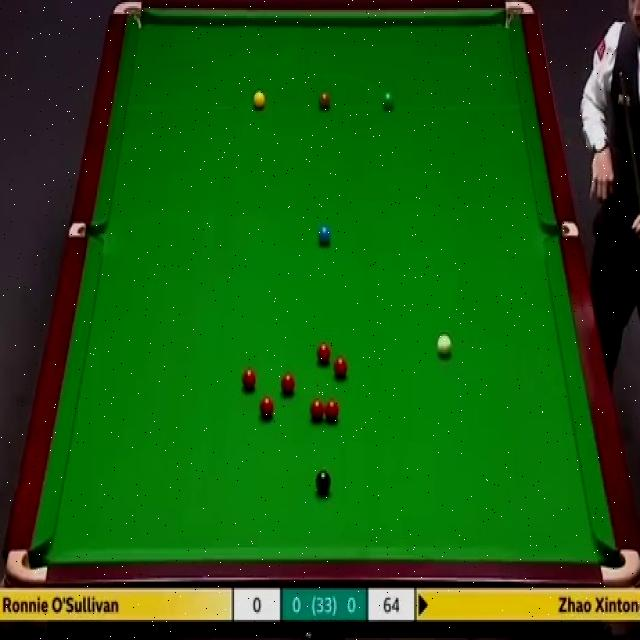black-ball: (316, 470, 331, 496)
blue-ball: (318, 225, 331, 244)
brown-ball: (318, 93, 331, 109)
red-ball: (333, 354, 348, 380), (325, 398, 340, 424), (240, 368, 257, 390), (310, 398, 325, 421), (280, 374, 296, 395), (317, 342, 332, 364), (260, 396, 274, 417)
white-ball: (438, 333, 452, 357)
yellow-ball: (382, 89, 396, 110), (252, 91, 266, 109)
